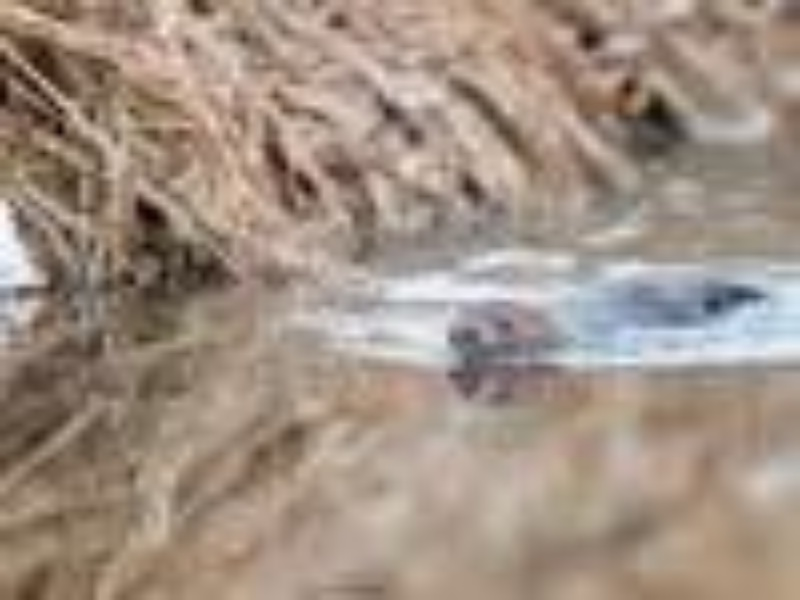minkish: (445, 271, 762, 360)
